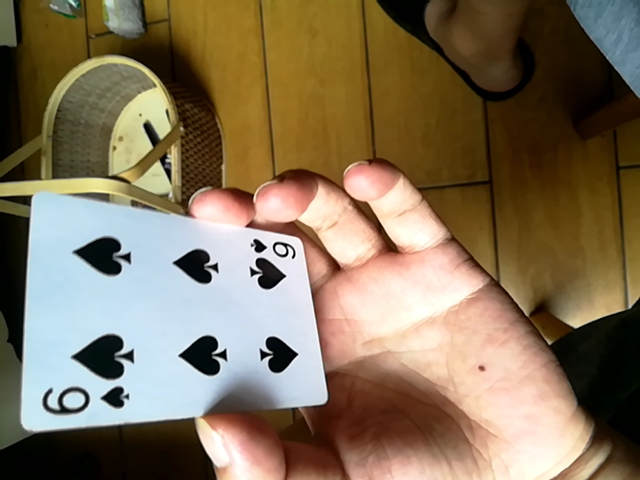ht 6: (16, 192, 324, 436)
